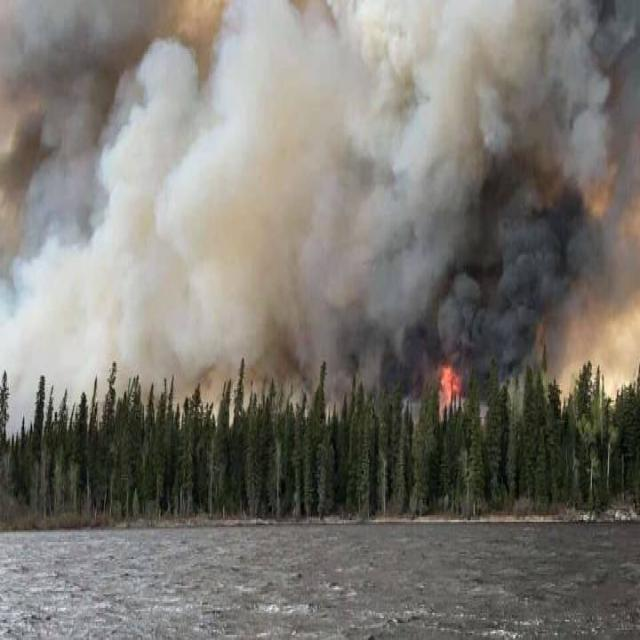Smoke: (0, 6, 640, 394)
